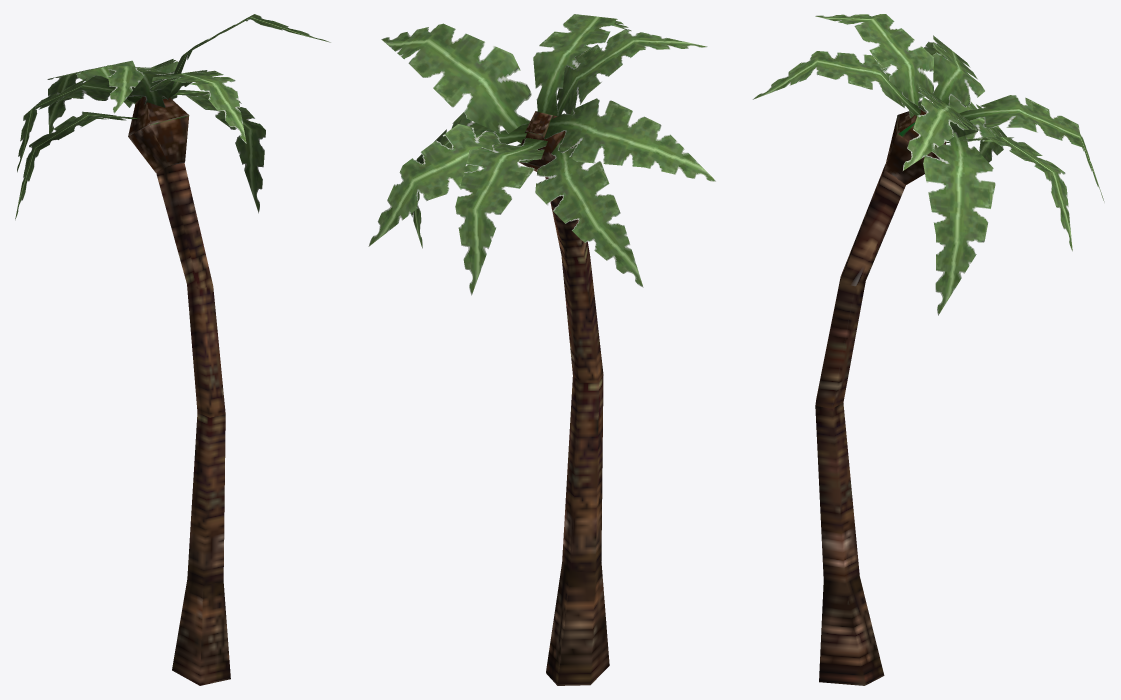
The model's file is PalmTree_01.glb.
The picture shows the model from 3 angles, left to right: view 1: azimuth 30°, elevation 25°; view 2: azimuth 150°, elevation 25°; view 3: azimuth 270°, elevation 25°; orthographic projection. The views are drawn at different scales.
Visible parts, largest first — view 1: PALMTREE_01; view 2: PALMTREE_01; view 3: PALMTREE_01.
Boxes of the visible parts, x1,y1,x2,y2 form: PALMTREE_01: (15, 14, 330, 685); PALMTREE_01: (368, 14, 715, 685); PALMTREE_01: (752, 14, 1104, 685).
Size of the model in its own units: 3.42 by 6.28 by 3.26.
Materials: 2 (2 with a texture image).
